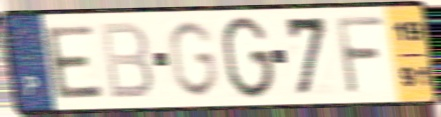7: (285, 15, 330, 99)
B: (97, 20, 156, 102)
E: (42, 23, 107, 101)
F: (333, 14, 387, 97)
G: (220, 14, 277, 102), (165, 18, 221, 100)
